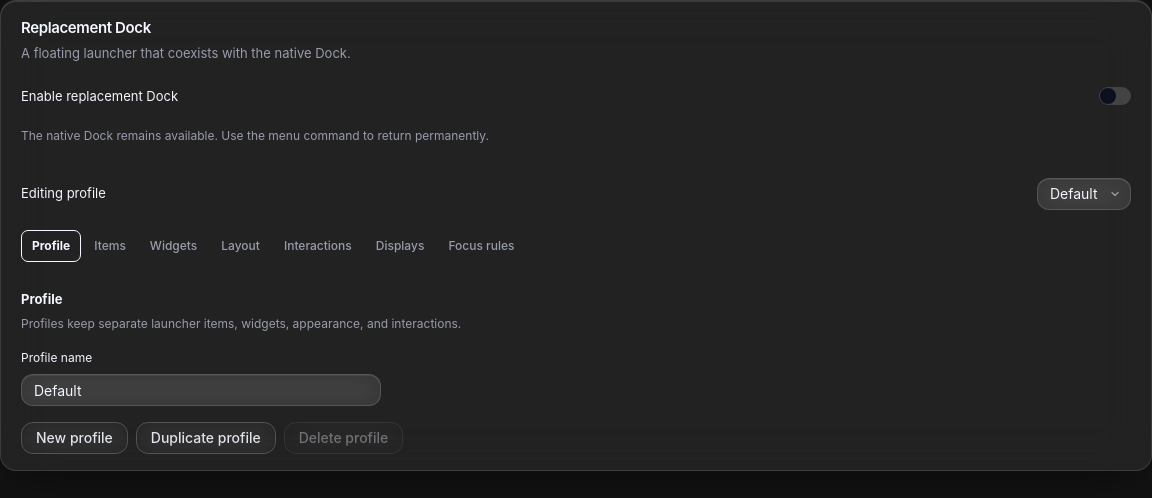
Test: ReplacementDock › binds profiles to main and stable display UUID targets
Click the button "Displays": (400, 246) [365,230,435,262]
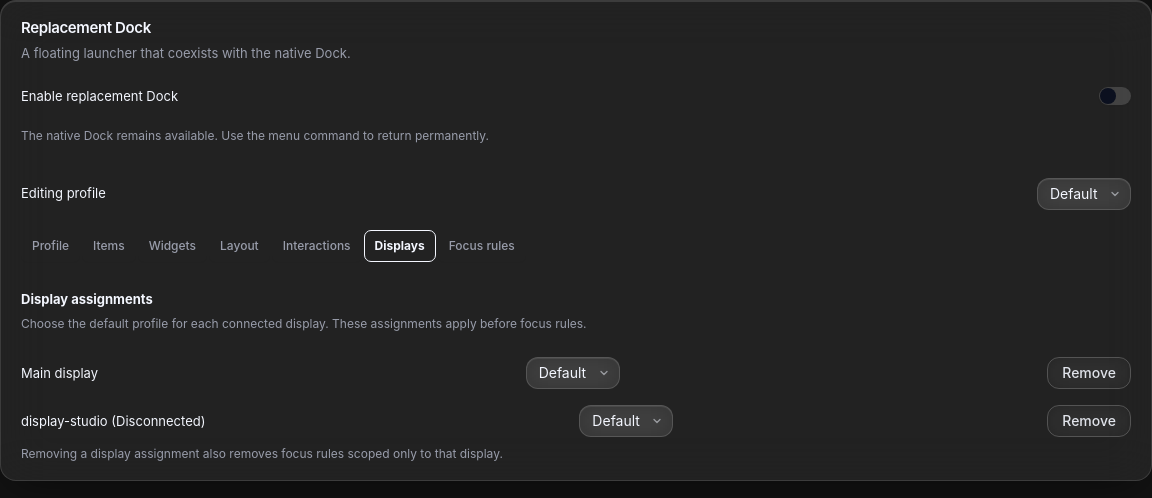
Expected: the text "Main display" is shown, [21,364,98,383]
Expected: the text "display-studio (Disconnected)" is shown, [21,412,206,431]
